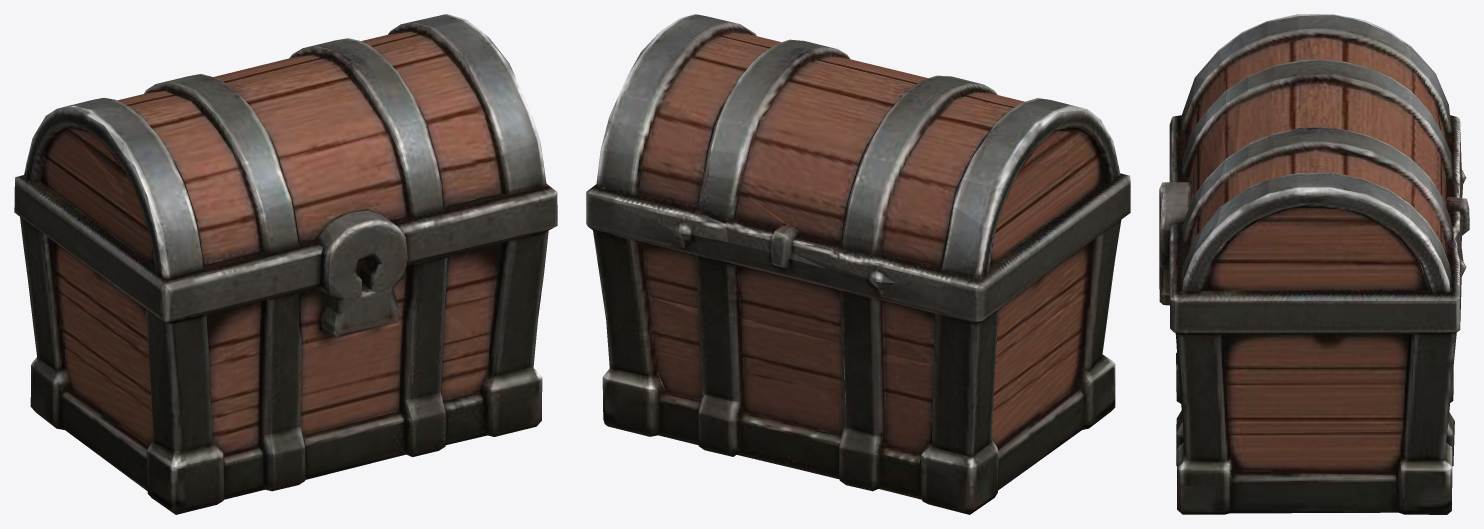
File: chest_dark_iron_lod0.glb
The picture shows the model from 3 angles, left to right: view 1: azimuth 30°, elevation 25°; view 2: azimuth 150°, elevation 25°; view 3: azimuth 270°, elevation 25°; orthographic projection. The views are drawn at different scales.
Parts seen in each view (by area): view 1: chest_dark_iron_lod0; view 2: chest_dark_iron_lod0; view 3: chest_dark_iron_lod0.
Boxes of the visible parts, x1,y1,x2,y2 form: chest_dark_iron_lod0: (14, 14, 557, 514); chest_dark_iron_lod0: (586, 14, 1130, 514); chest_dark_iron_lod0: (1159, 14, 1469, 514).
Size of the model in its own units: 0.9057 by 0.7626 by 0.6481.
Materials: 1 (1 with a texture image).
